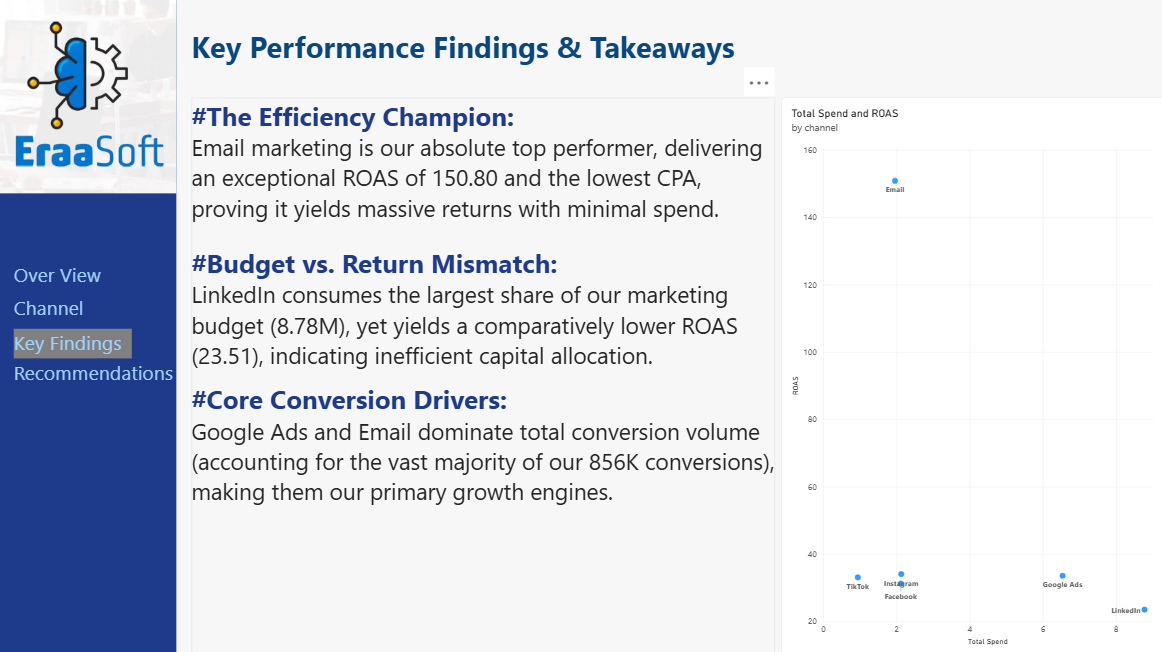

What the dashboard file says about the page in this screenshot:
{"tool":"powerbi","page":{"name":"Key Findings","canvas":[1920,1080],"ordinal":2},"visuals":[{"type":"textbox","box":[314.3,160.4,962.1,919.4],"z":0},{"type":"textbox","box":[0,0,290.8,1079.7],"z":1000},{"type":"image","box":[0,0,290.8,318.6],"z":2000},{"type":"scatterChart","fields":{"Category":["marketing-campaigns.channel"],"X":["marketing-campaigns.Total Spend"],"Y":["marketing-campaigns.ROAS"]},"box":[1287.1,160.4,632.9,919.4],"z":3000},{"type":"textbox","box":[314.3,42.8,1605.7,96.2],"z":4000},{"type":"textbox","box":[23.5,429.8,149.7,53.5],"z":5000},{"type":"textbox","box":[23.5,483.2,121.9,55.6],"z":6000},{"type":"textbox","box":[23.5,540.9,194.6,49.2],"z":7000},{"type":"textbox","box":[23.5,590.1,267.3,70.6],"z":8000},{"type":"actionButton","box":[22.6,590.7,267.6,47.3],"z":8001},{"type":"actionButton","box":[20.6,489.9,135.8,39.1],"z":8002},{"type":"actionButton","box":[20.6,430.2,152.3,39.1],"z":8003}]}

Visuals, with their boxes on the page's 1920x1080 design canvas (x1, y1, x2, y2). These are canvas units, not pixel positions in the 1162x652 screenshot, which may show the page scaled, cropped or inside an application window:
textbox: rect(314, 160, 1276, 1080)
textbox: rect(0, 0, 291, 1080)
image: rect(0, 0, 291, 319)
scatterChart - marketing-campaigns.channel x marketing-campaigns.Total Spend: rect(1287, 160, 1920, 1080)
textbox: rect(314, 43, 1920, 139)
textbox: rect(24, 430, 173, 483)
textbox: rect(24, 483, 145, 539)
textbox: rect(24, 541, 218, 590)
textbox: rect(24, 590, 291, 661)
actionButton: rect(23, 591, 290, 638)
actionButton: rect(21, 490, 156, 529)
actionButton: rect(21, 430, 173, 469)
